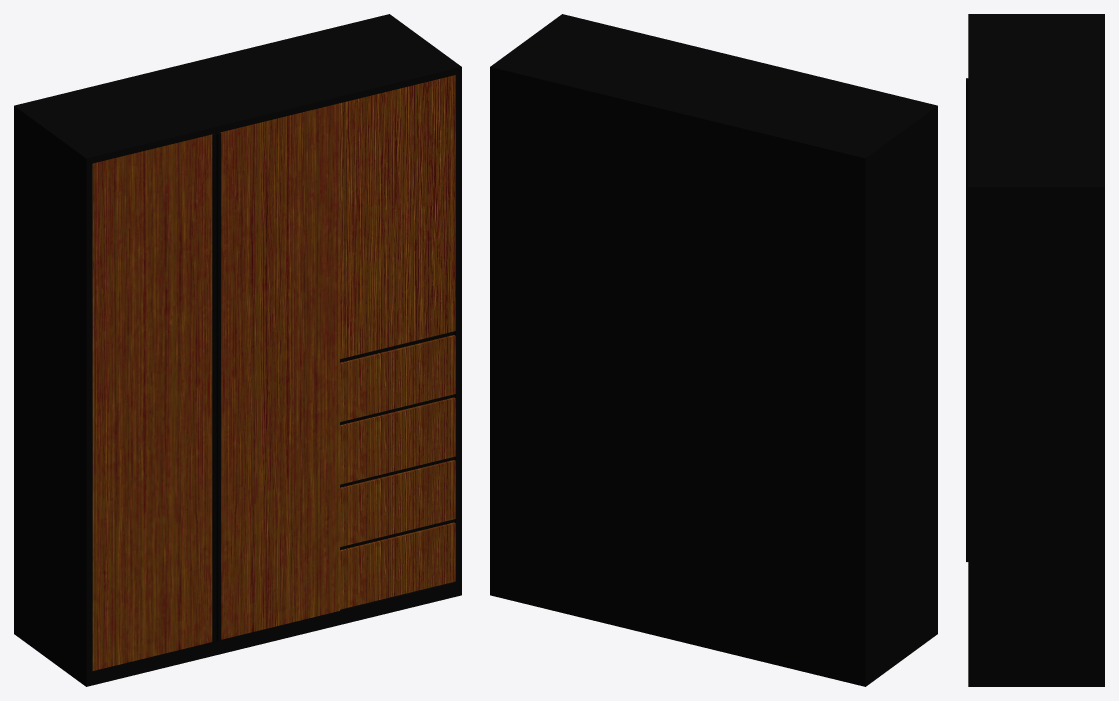
File: almirah1-var2.glb
3 renders of one model, left to right at view 1: azimuth 30°, elevation 25°; view 2: azimuth 150°, elevation 25°; view 3: azimuth 270°, elevation 25°, orthographic. The views are drawn at different scales.
Parts seen in each view (by area): view 1: Tu ao_01 - Default_0; view 2: Tu ao_01 - Default_0; view 3: Tu ao_01 - Default_0.
Boxes of the visible parts, left/top/right/bottom form: Tu ao_01 - Default_0: left=14, top=14, right=461, bottom=686; Tu ao_01 - Default_0: left=490, top=14, right=937, bottom=686; Tu ao_01 - Default_0: left=966, top=14, right=1104, bottom=686.
Size of the model in its own units: 1.8 by 2.41 by 0.6085.
1 material, 1 textured.
